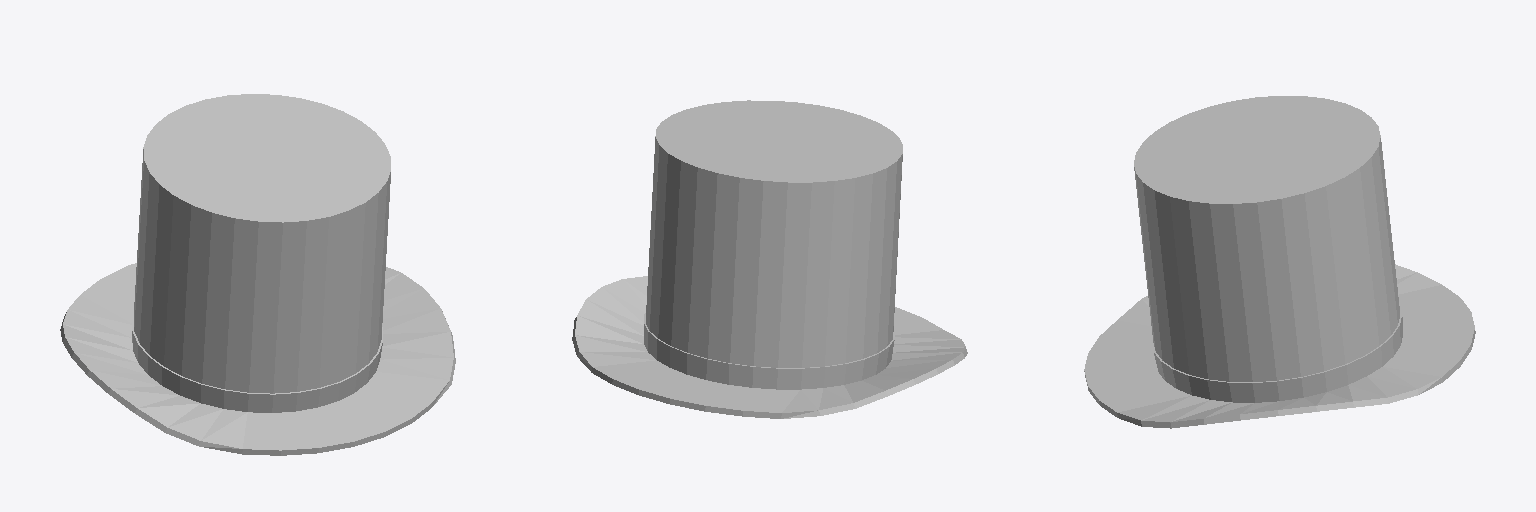
Rendered from tophat_basic.sgm.obj.
3 renders of one model, left to right at view 1: azimuth 30°, elevation 25°; view 2: azimuth 150°, elevation 25°; view 3: azimuth 270°, elevation 25°, orthographic.
Bounding box in the file's own units: 0.6292 × 0.4242 × 0.6289.